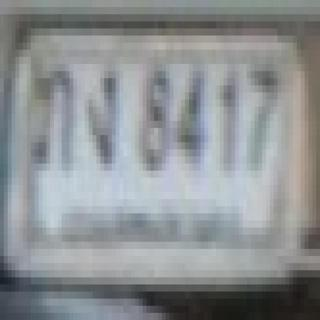A07: (79, 64, 128, 173)
A32: (31, 64, 80, 174)
N01: (216, 62, 246, 176)
N04: (176, 67, 213, 170)
N06: (134, 64, 177, 175)
N07: (245, 64, 284, 175)
